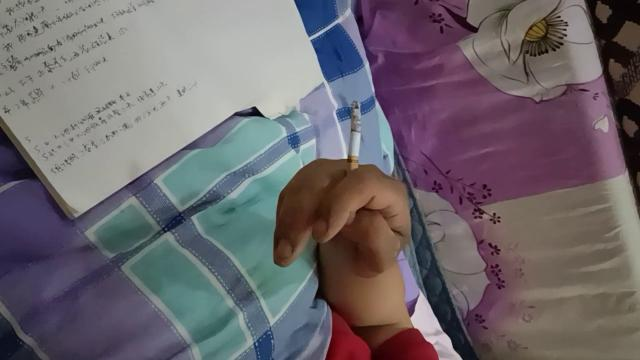Smoking: (344, 100, 362, 192)
